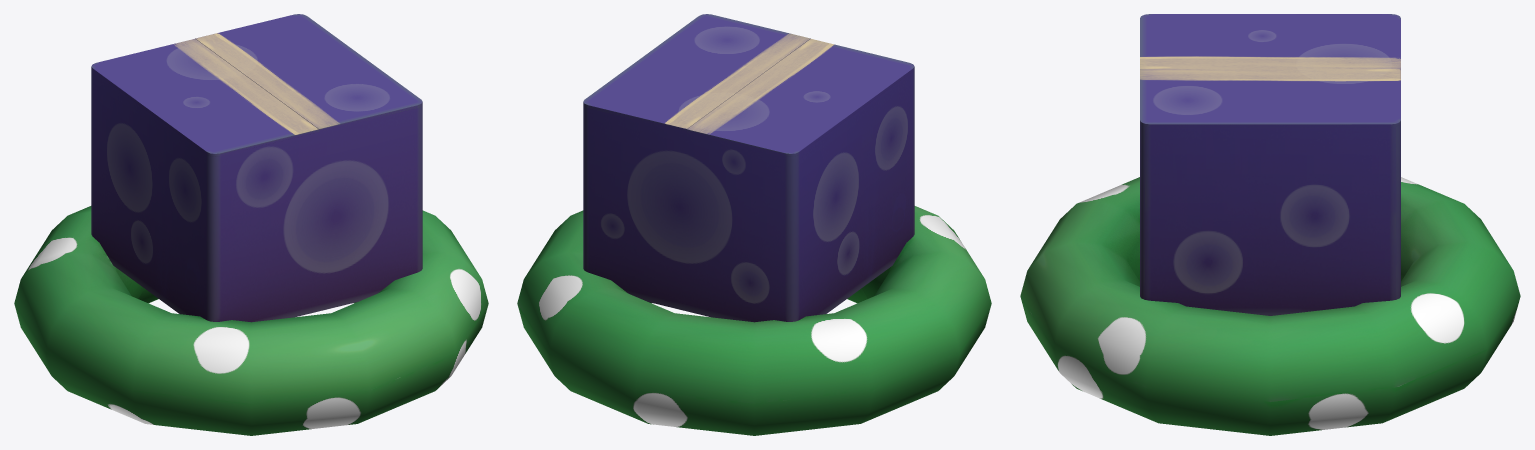
The model's file is Box_WaterProof.fbx.
3 views of the same model, side by side, from view 1: azimuth 30°, elevation 25°; view 2: azimuth 150°, elevation 25°; view 3: azimuth 270°, elevation 25° (orthographic). The views are drawn at different scales.
Visible parts, largest first — view 1: Torus.001, Cube.029, BOX.005, Cube.030; view 2: Torus.001, Cube.029, BOX.005, Cube.030; view 3: Torus.001, Cube.029, Cube.030, BOX.005.
Part boxes in pixels (x1,y1,x2,y2): Torus.001: (14,206,488,435); Cube.029: (91,69,422,322); BOX.005: (91,39,318,156); Cube.030: (195,14,422,130); Torus.001: (517,206,991,435); Cube.029: (583,69,914,322); BOX.005: (687,39,914,156); Cube.030: (583,14,810,130); Torus.001: (1020,177,1520,435); Cube.029: (1140,123,1400,315); Cube.030: (1140,69,1400,127); BOX.005: (1140,14,1400,68).
Bounding box in the file's own units: 98.16 × 61.6 × 98.16.
2 materials, 2 textured.
